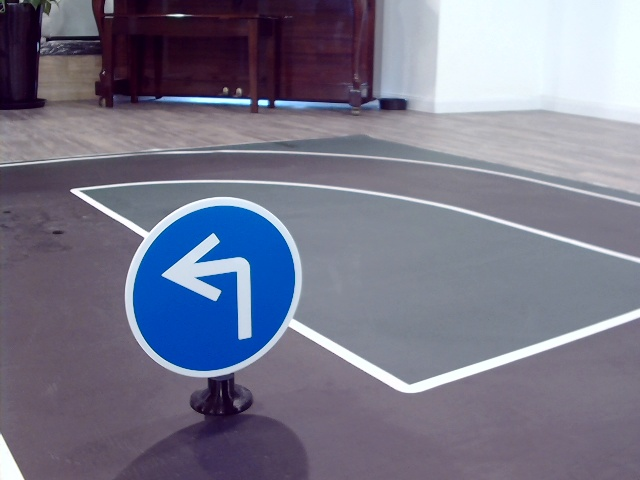turn_left: (161, 229, 262, 337)
